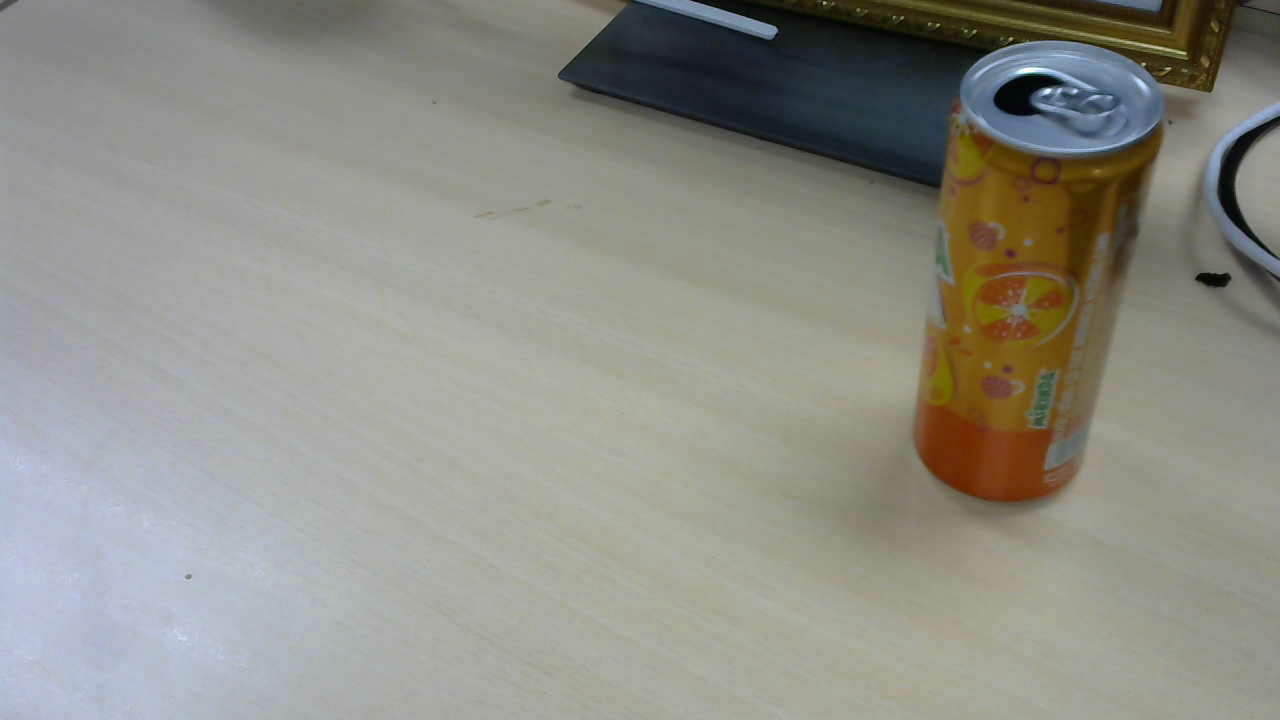Mirinda: (918, 43, 1172, 505)
